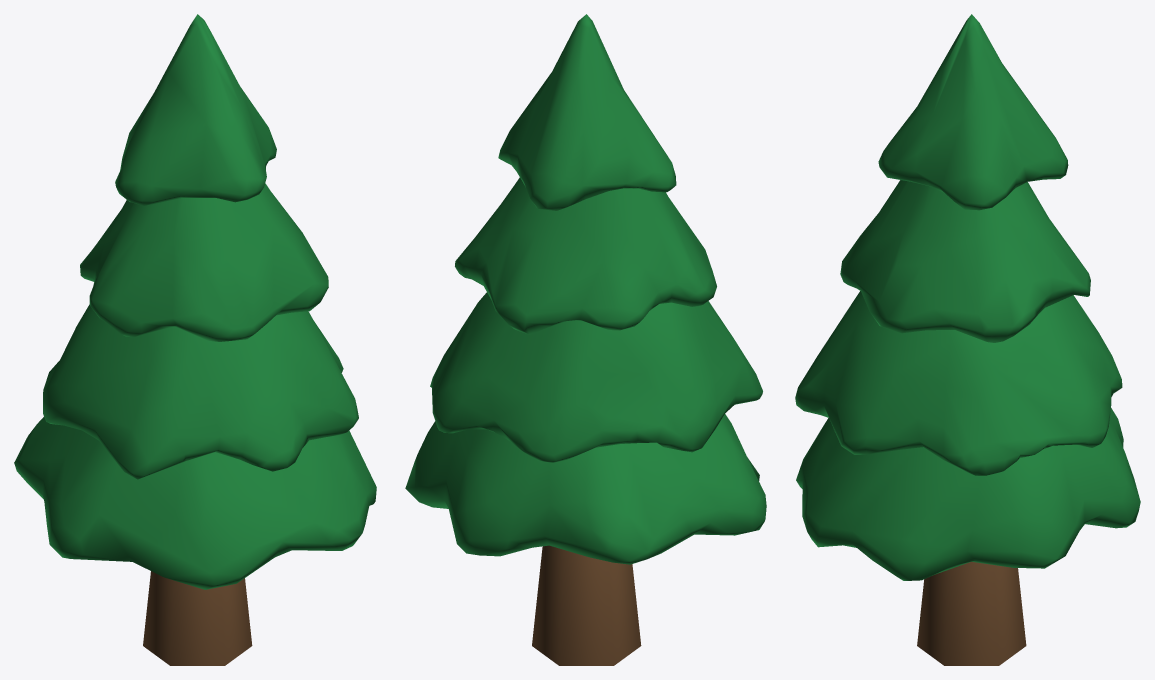
File: default-tree.fbx
3 views of the same model, side by side, from view 1: azimuth 30°, elevation 25°; view 2: azimuth 150°, elevation 25°; view 3: azimuth 270°, elevation 25° (orthographic).
Visible parts, largest first — view 1: s-leaves-4, s-leaves-3, s-leaves-2, s-leaves-1, s-log; view 2: s-leaves-3, s-leaves-4, s-leaves-2, s-leaves-1, s-log; view 3: s-leaves-3, s-leaves-4, s-leaves-2, s-leaves-1, s-log.
Part boxes in pixels (<box>): s-leaves-4: <box>14,417,376,589</box>; s-leaves-3: <box>43,304,358,479</box>; s-leaves-2: <box>80,183,328,341</box>; s-leaves-1: <box>115,14,276,205</box>; s-log: <box>143,571,252,665</box>; s-leaves-3: <box>430,292,762,462</box>; s-leaves-4: <box>405,414,766,564</box>; s-leaves-2: <box>455,177,716,334</box>; s-leaves-1: <box>498,14,676,210</box>; s-log: <box>532,545,641,665</box>; s-leaves-3: <box>795,291,1122,475</box>; s-leaves-4: <box>796,408,1140,580</box>; s-leaves-2: <box>840,180,1090,342</box>; s-leaves-1: <box>878,14,1068,210</box>; s-log: <box>917,561,1026,665</box>.
Bounding box in the file's own units: 2.05 × 4.06 × 2.01.
